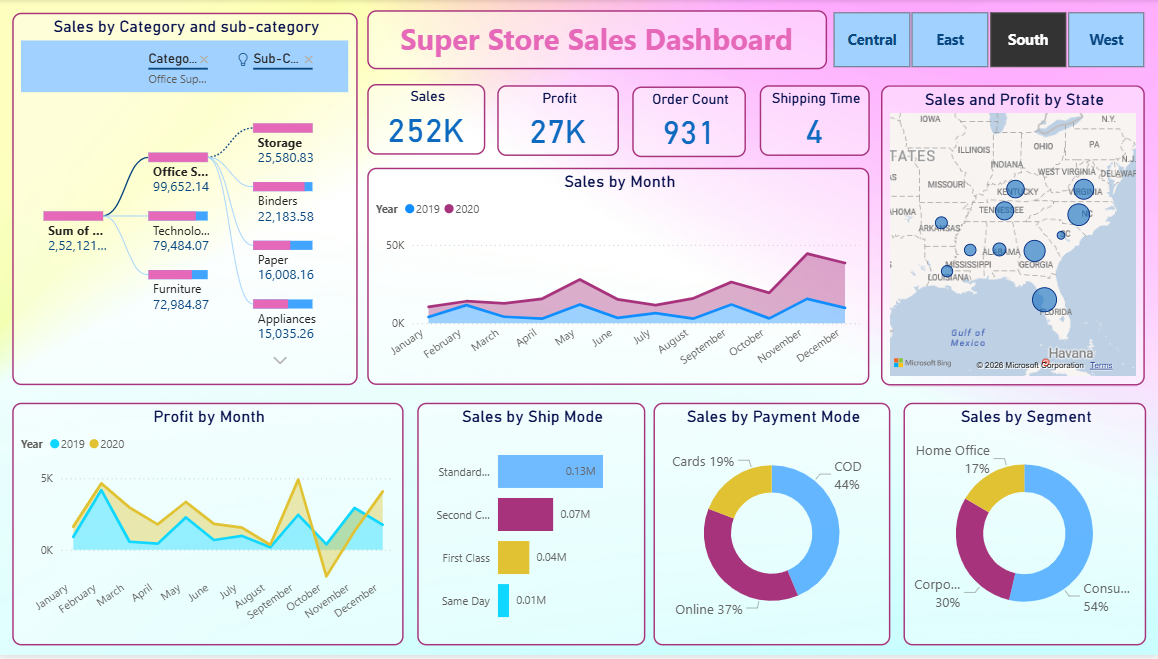

The page's visual inventory and layout, read from the dashboard file:
{"tool":"powerbi","page":{"name":"Page 1","canvas":[1280,720],"ordinal":0},"visuals":[{"type":"decompositionTreeVisual","title":"Sales by Category and sub-category","fields":{"ExplainBy":["SuperStore_Sales_Dataset.Category","SuperStore_Sales_Dataset.Sub-Category"],"Analyze":["Sum(SuperStore_Sales_Dataset.Sales)"]},"box":[17.6,14.7,379.4,408.8],"z":0},{"type":"stackedAreaChart","title":"Sales by Month","fields":{"Y":["Sum(SuperStore_Sales_Dataset.Sales)"],"Category":["SuperStore_Sales_Dataset.Order Date.Variation.Date Hierarchy.Month","SuperStore_Sales_Dataset.Order Date.Variation.Date Hierarchy.Day"],"Series":["SuperStore_Sales_Dataset.Order Date.Variation.Date Hierarchy.Year"]},"box":[407.4,185.3,551.5,238.2],"z":1000},{"type":"stackedAreaChart","title":" Profit by Month ","fields":{"Category":["SuperStore_Sales_Dataset.Order Date.Variation.Date Hierarchy.Month","SuperStore_Sales_Dataset.Order Date.Variation.Date Hierarchy.Day"],"Series":["SuperStore_Sales_Dataset.Order Date.Variation.Date Hierarchy.Year"],"Y":["Sum(SuperStore_Sales_Dataset.Profit)"]},"box":[17.6,442.6,429.4,266.2],"z":2000},{"type":"map","title":"Sales and  Profit by State","fields":{"Category":["SuperStore_Sales_Dataset.State"],"Size":["Sum(SuperStore_Sales_Dataset.Sales)"]},"box":[972.1,94.1,289.7,329.4],"z":3000},{"type":"donutChart","title":"Sales by Segment","fields":{"Category":["SuperStore_Sales_Dataset.Segment"],"Y":["Sum(SuperStore_Sales_Dataset.Sales)"]},"box":[995.6,442.6,266.2,266.2],"z":4000},{"type":"donutChart","title":"Sales by Payment Mode","fields":{"Category":["SuperStore_Sales_Dataset.Payment Mode"],"Y":["Sum(SuperStore_Sales_Dataset.Sales)"]},"box":[722.1,442.6,260.3,266.2],"z":5000},{"type":"slicer","fields":{"Values":["SuperStore_Sales_Dataset.Region"]},"box":[898.5,11.8,380.9,64.7],"z":6000},{"type":"textbox","box":[407.4,11.8,504.4,64.7],"z":7000},{"type":"card","title":"Sales","fields":{"Values":["Sum(SuperStore_Sales_Dataset.Sales)"]},"box":[407.4,92.6,129.4,77.9],"z":8000},{"type":"card","title":"Order Count","fields":{"Values":["CountNonNull(SuperStore_Sales_Dataset.Quantity)"]},"box":[698.5,95.6,125,77.9],"z":9000},{"type":"card","title":"Shipping Time","fields":{"Values":["Avg(SuperStore_Sales_Dataset.AvgDelivery)"]},"box":[838.2,94.1,120.6,77.9],"z":10000},{"type":"card","title":"Profit","fields":{"Values":["Sum(SuperStore_Sales_Dataset.Profit)"]},"box":[550,94.1,133.8,77.9],"z":11000},{"type":"clusteredBarChart","title":"Sales by Ship Mode","fields":{"Category":["SuperStore_Sales_Dataset.Ship Mode"],"Y":["Sum(SuperStore_Sales_Dataset.Sales)"]},"box":[461.8,442.6,250,266.2],"z":12000}]}

Visuals, with their boxes in screenshot pixels (x1, y1, x2, y2), scaled from the page's 1280x720 canvas onto the 1158x659 screenshot:
"Sales by Category and sub-category" decompositionTreeVisual: left=16, top=13, right=359, bottom=388
"Sales by Month" stackedAreaChart: left=369, top=170, right=868, bottom=388
" Profit by Month " stackedAreaChart: left=16, top=405, right=404, bottom=649
"Sales and  Profit by State" map: left=879, top=86, right=1142, bottom=388
"Sales by Segment" donutChart: left=901, top=405, right=1142, bottom=649
"Sales by Payment Mode" donutChart: left=653, top=405, right=889, bottom=649
slicer - SuperStore_Sales_Dataset.Region: left=813, top=11, right=1157, bottom=70
textbox: left=369, top=11, right=825, bottom=70
"Sales" card: left=369, top=85, right=486, bottom=156
"Order Count" card: left=632, top=88, right=745, bottom=159
"Shipping Time" card: left=758, top=86, right=867, bottom=157
"Profit" card: left=498, top=86, right=619, bottom=157
"Sales by Ship Mode" clusteredBarChart: left=418, top=405, right=644, bottom=649
